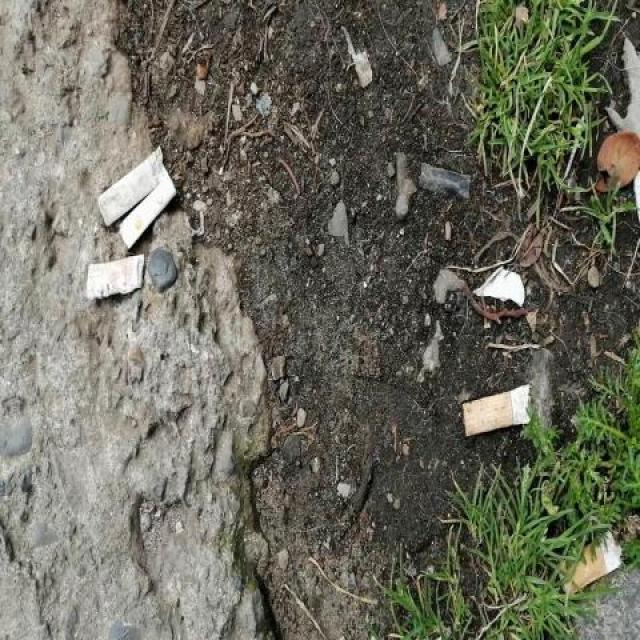non-organic waste: (95, 142, 165, 229), (556, 522, 627, 599), (456, 375, 536, 441), (116, 169, 177, 250), (82, 251, 150, 304)
